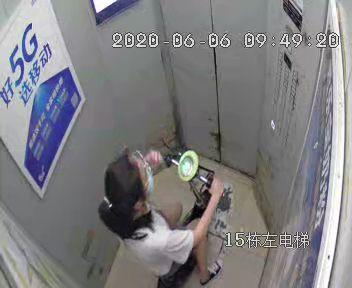Electric-bicycle: (147, 147, 229, 287)
